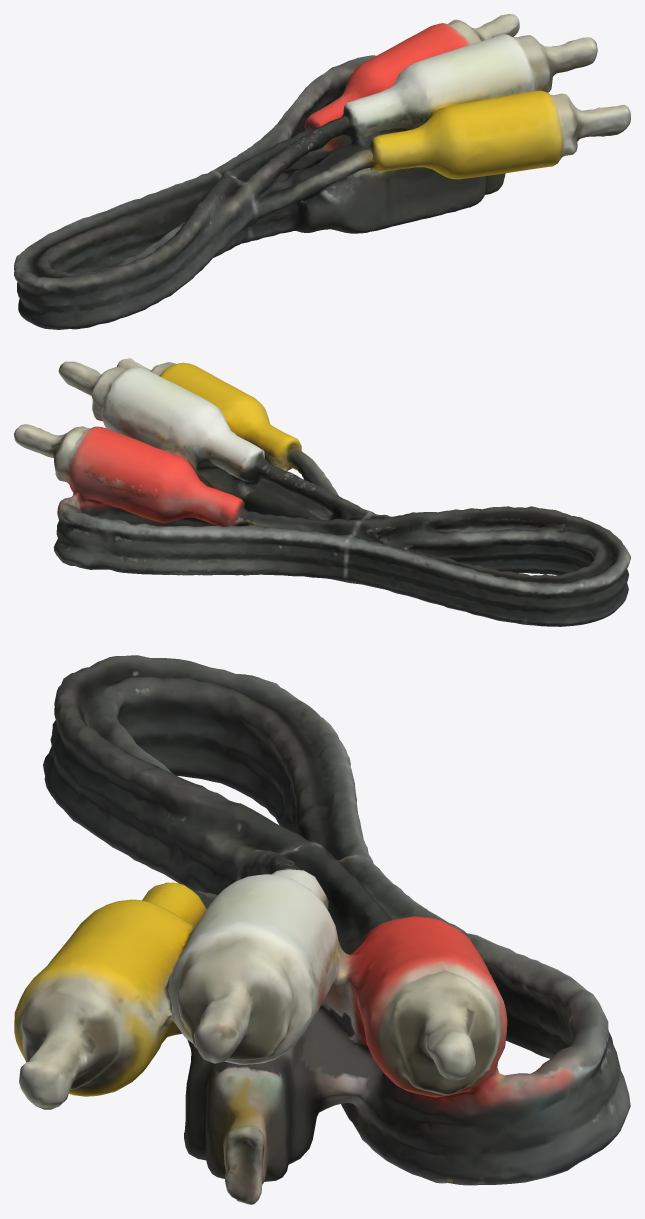
Rendered from GoPro_HERO3_Composite_Cable.glb.
The picture shows the model from 3 angles, top to bottom: view 1: azimuth 30°, elevation 25°; view 2: azimuth 150°, elevation 25°; view 3: azimuth 270°, elevation 25°; orthographic projection. The views are drawn at different scales.
Visible parts, largest first — view 1: GoPro_HERO3_Composite_Cable; view 2: GoPro_HERO3_Composite_Cable; view 3: GoPro_HERO3_Composite_Cable.
Part boxes in pixels (<box>): GoPro_HERO3_Composite_Cable: <box>14,14,630,329</box>; GoPro_HERO3_Composite_Cable: <box>14,358,630,626</box>; GoPro_HERO3_Composite_Cable: <box>14,655,630,1204</box>.
Size of the model in its own units: 0.0986 by 0.0248 by 0.0479.
Materials: 1 (1 with a texture image).
